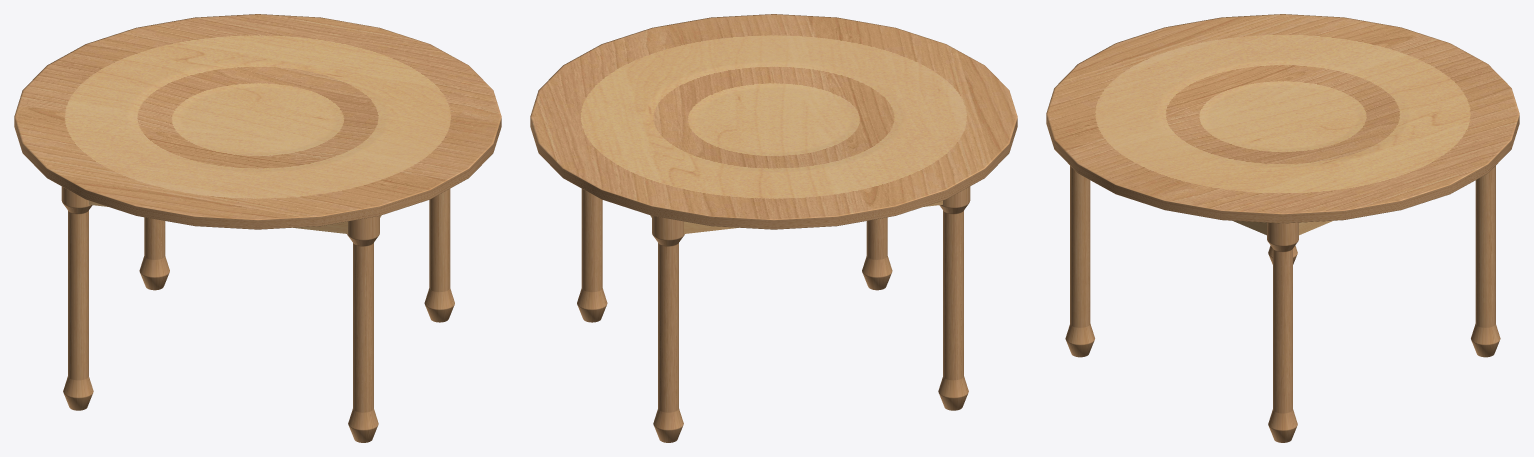
File: desk.dae
3 renders of one model, left to right at view 1: azimuth 30°, elevation 25°; view 2: azimuth 150°, elevation 25°; view 3: azimuth 270°, elevation 25°, orthographic. The views are drawn at different scales.
Parts seen in each view (by area): view 1: Table, Leg; view 2: Table, Leg; view 3: Table, Leg, Support.
Boxes of the visible parts, <box> form: Table: <box>14,14,501,229</box>; Leg: <box>61,186,454,442</box>; Table: <box>530,14,1017,229</box>; Leg: <box>577,186,970,442</box>; Table: <box>1046,14,1519,223</box>; Leg: <box>1065,166,1500,442</box>; Support: <box>1232,220,1333,235</box>.
Bounding box in the file's own units: 3.92 × 3.92 × 2.18.
Materials: 2 (2 with a texture image).
